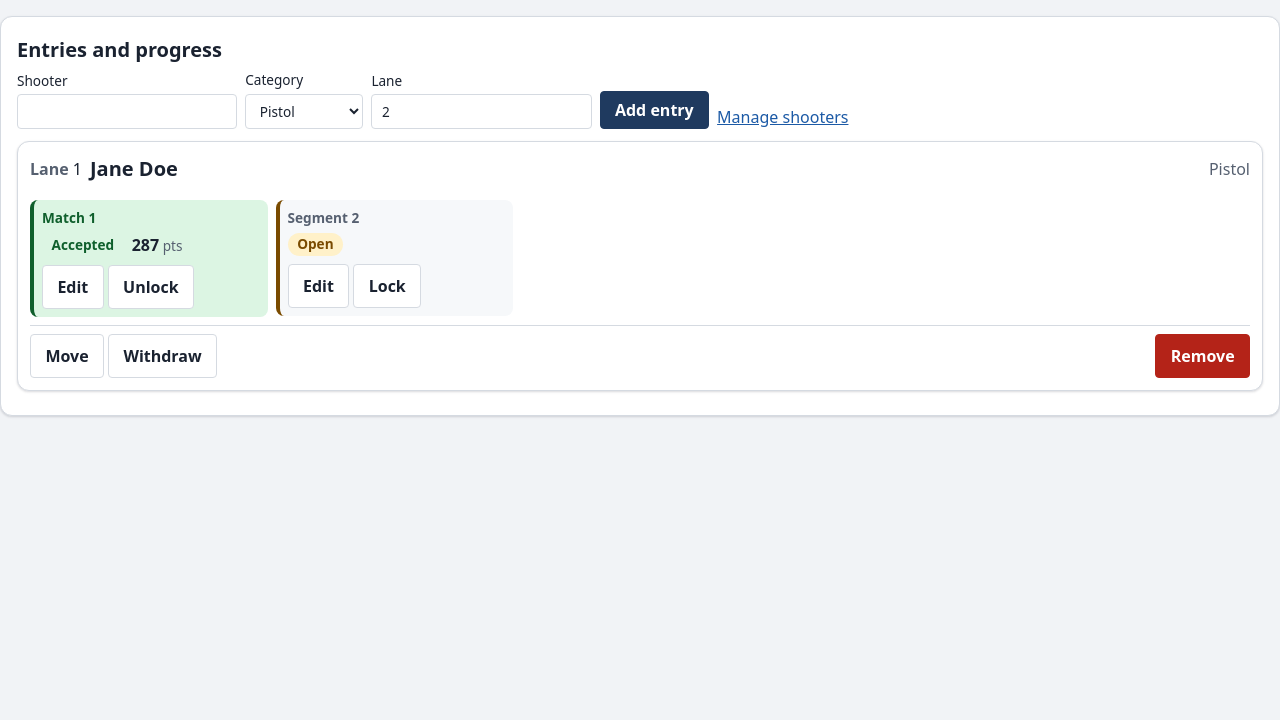
Scenario: Entries › shows the entered total against the expected shots
Click the button with aria-label "Lane 1 segment 2: Edit": (318, 286) [288,264,349,308]
(page scrolled)
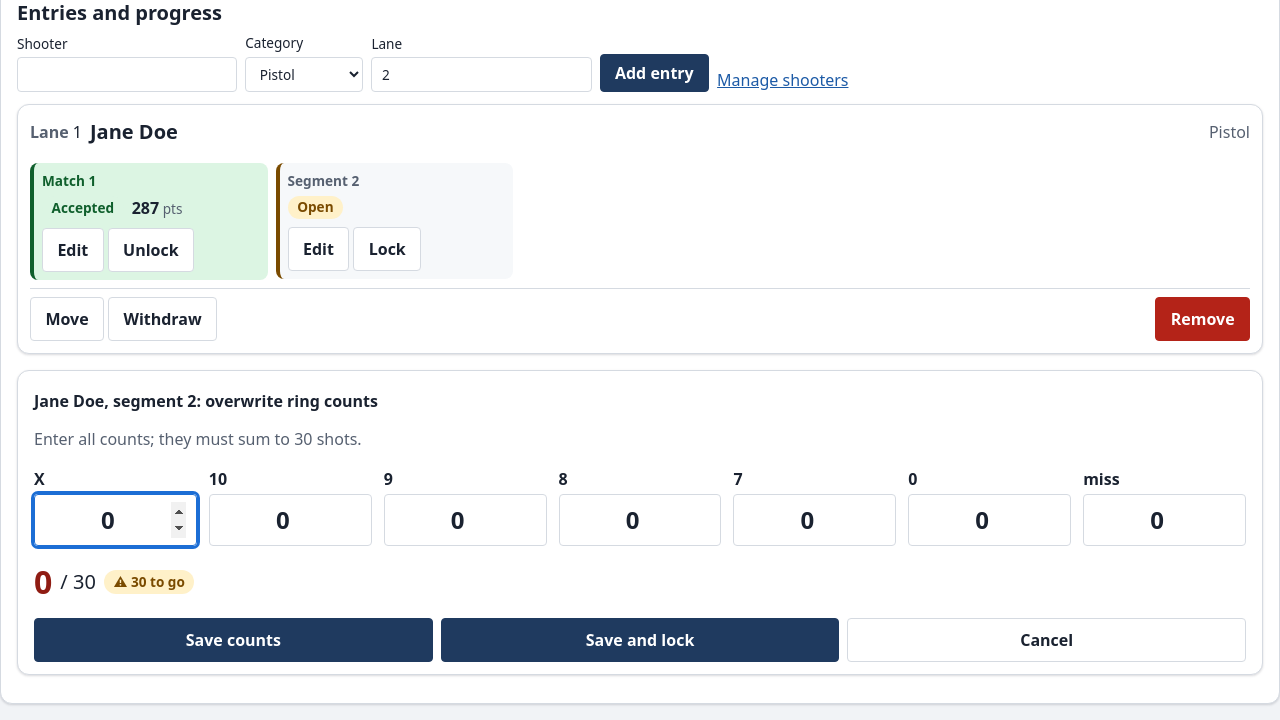
Expected: the text "30 to go" is shown, [113,572,185,591]
Replace the text in the number field labelled "X" with "30": (115, 520) [34,494,197,546]
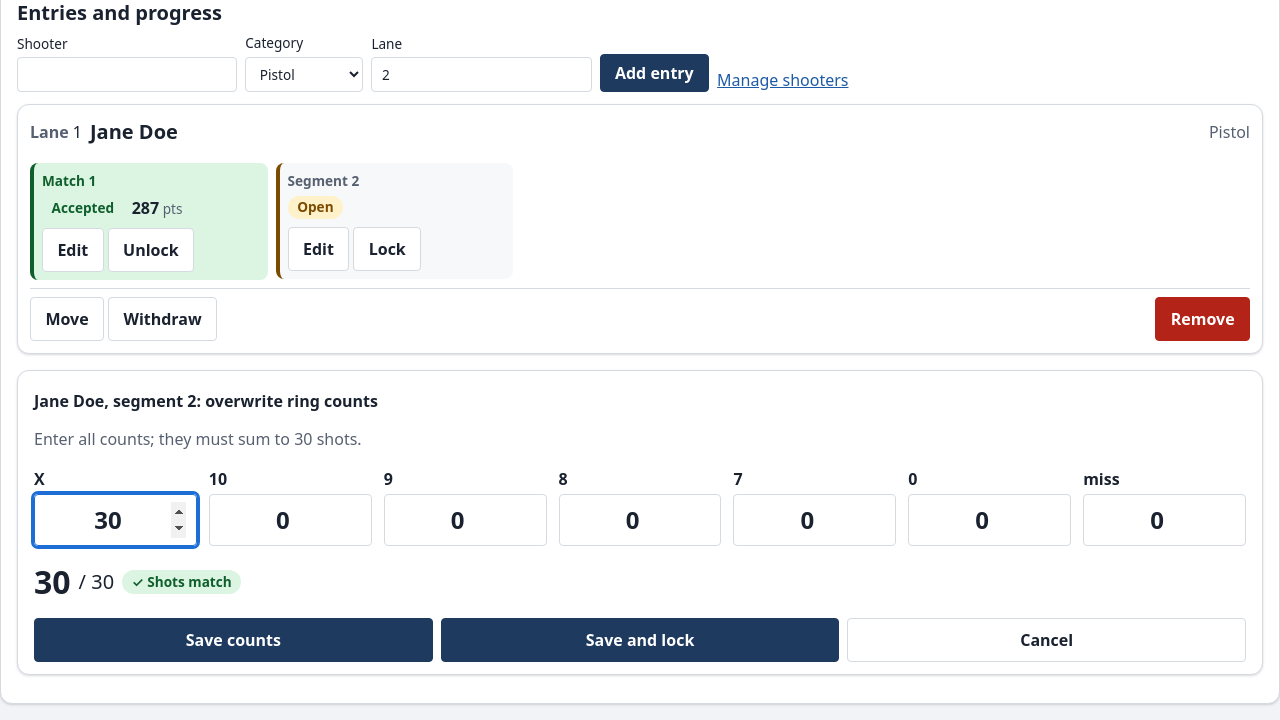
Expected: the text "Shots match" is shown, [132,572,232,591]
In the number field labelled "X": (115, 520) [34,494,197,546], type "1"
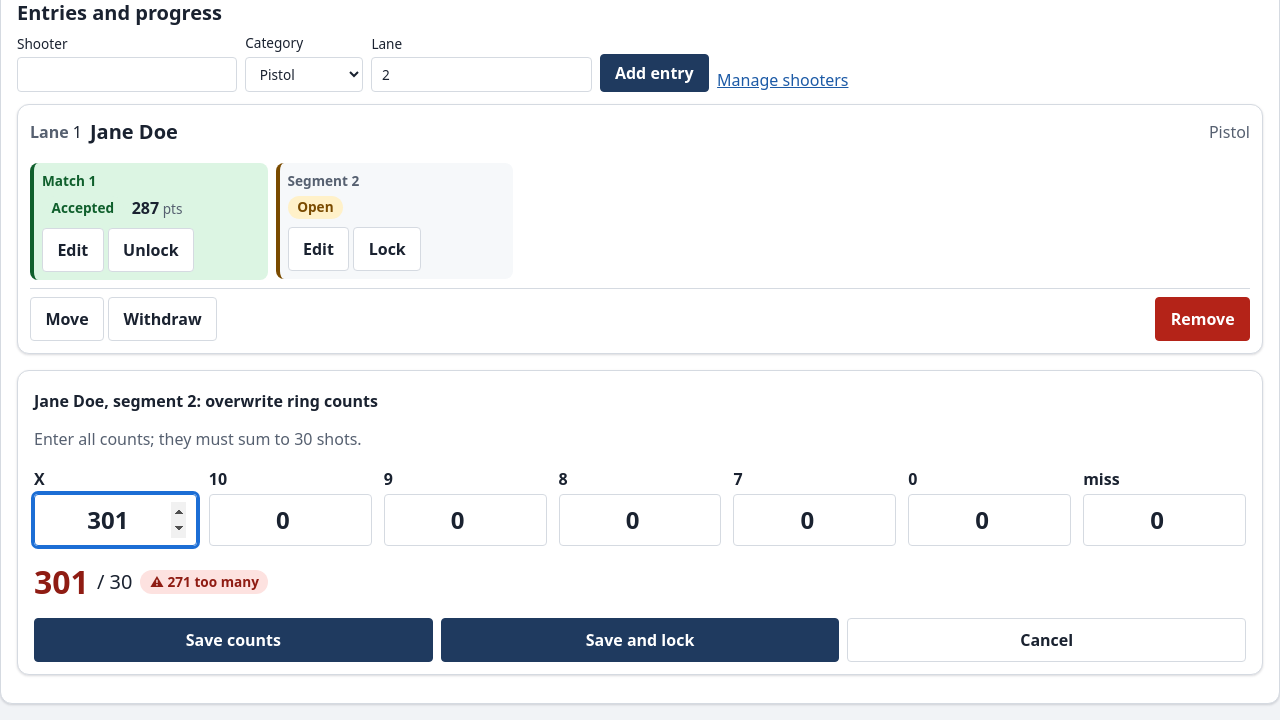
Expected: the text "271 too many" is shown, [150,572,259,591]
